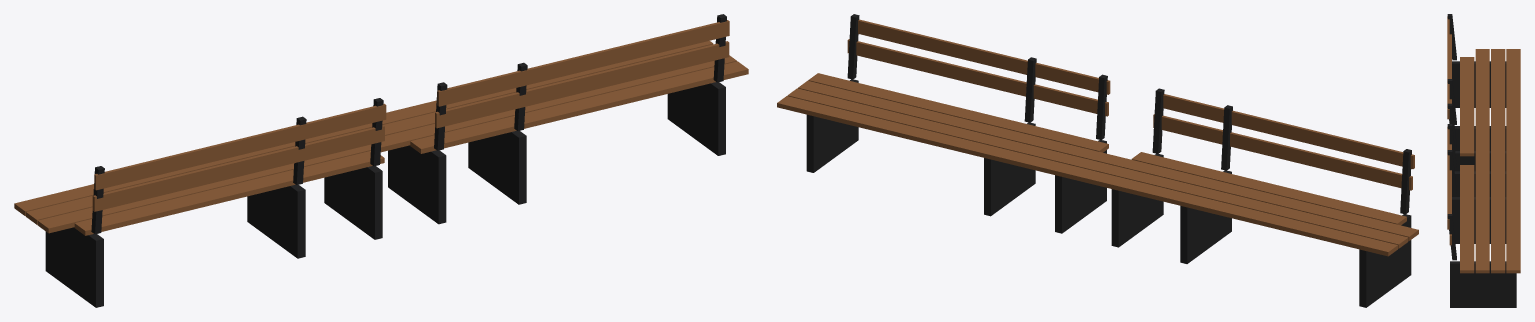
3 views of the same model, side by side, from view 1: azimuth 30°, elevation 25°; view 2: azimuth 150°, elevation 25°; view 3: azimuth 270°, elevation 25° (orthographic). The views are drawn at different scales.
Parts seen in each view (by area): view 1: parametric-variant-bench-3rd-eea30e39e8b7ea50ff4c; view 2: parametric-variant-bench-3rd-eea30e39e8b7ea50ff4c; view 3: parametric-variant-bench-3rd-eea30e39e8b7ea50ff4c.
Boxes of the visible parts, x1,y1,x2,y2 form: parametric-variant-bench-3rd-eea30e39e8b7ea50ff4c: (14,14,748,307); parametric-variant-bench-3rd-eea30e39e8b7ea50ff4c: (777,14,1418,307); parametric-variant-bench-3rd-eea30e39e8b7ea50ff4c: (1447,14,1520,307).
Size of the model in its own units: 4.4 by 0.85 by 0.6174.
